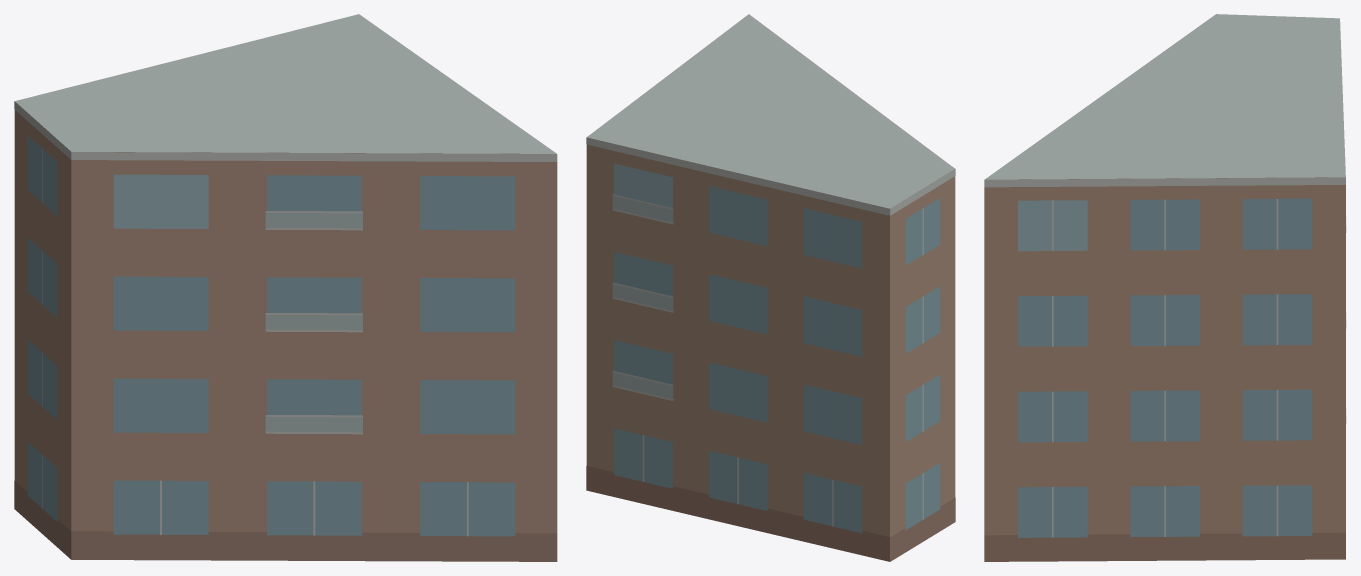
Rendered from survey-upis-32915529.glb.
The picture shows the model from 3 angles, left to right: view 1: azimuth 30°, elevation 25°; view 2: azimuth 150°, elevation 25°; view 3: azimuth 270°, elevation 25°; orthographic projection. The views are drawn at different scales.
Visible parts, largest first — view 1: survey-upis-32915529.tmp; view 2: survey-upis-32915529.tmp; view 3: survey-upis-32915529.tmp.
Boxes of the visible parts, <box> form: survey-upis-32915529.tmp: <box>14,14,557,561</box>; survey-upis-32915529.tmp: <box>586,14,955,561</box>; survey-upis-32915529.tmp: <box>984,14,1346,561</box>.
Size of the model in its own units: 11.35 by 12.2 by 10.49.
